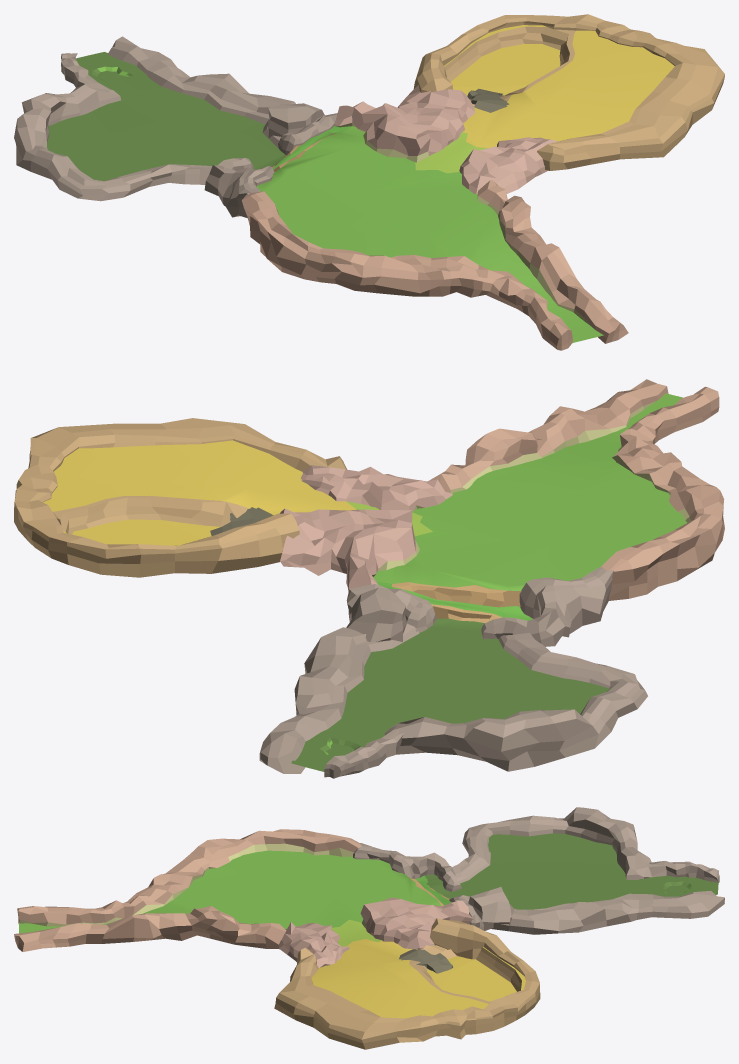
Rendered from MapColor2.fbx.
3 views of the same model, one above another, from view 1: azimuth 30°, elevation 25°; view 2: azimuth 150°, elevation 25°; view 3: azimuth 270°, elevation 25° (orthographic). The views are drawn at different scales.
Visible parts, largest first — view 1: Plane, Cube.006, Cube.007, Cube.008, Cube.001, Cube.005, Cube.009, Cube.002, Cube.003, Cube.010, Cube.004, Cube.011 (+1 smaller); view 2: Plane, Cube.006, Cube.008, Cube.007, Cube.001, Cube.009, Cube.005, Cube.003, Cube.002, Cube.010, Cube.011, Cube.004 (+1 smaller); view 3: Plane, Cube.006, Cube.007, Cube.005, Cube.008, Cube.009, Cube.001, Cube.003, Cube.002, Cube.010, Cube.011, Cube.
Part boxes in pixels (<box>): Plane: <box>47,25,674,343</box>; Cube.006: <box>413,14,724,170</box>; Cube.007: <box>242,191,572,350</box>; Cube.008: <box>14,83,212,201</box>; Cube.001: <box>334,85,474,162</box>; Cube.005: <box>477,180,628,343</box>; Cube.009: <box>108,36,295,147</box>; Cube.002: <box>459,137,557,194</box>; Cube.003: <box>204,158,274,217</box>; Cube.010: <box>267,103,324,137</box>; Cube.004: <box>278,113,337,155</box>; Cube.011: <box>61,53,98,87</box>; Plane: <box>43,393,687,773</box>; Cube.006: <box>14,418,346,577</box>; Cube.008: <box>384,633,647,771</box>; Cube.007: <box>600,386,724,600</box>; Cube.001: <box>280,508,419,593</box>; Cube.009: <box>259,623,419,773</box>; Cube.005: <box>429,379,668,493</box>; Cube.003: <box>481,567,613,646</box>; Cube.002: <box>300,465,452,511</box>; Cube.010: <box>346,587,406,641</box>; Cube.011: <box>324,728,403,778</box>; Cube.004: <box>346,584,436,632</box>; Plane: <box>19,833,718,1018</box>; Cube.006: <box>274,918,540,1049</box>; Cube.007: <box>17,829,361,926</box>; Cube.005: <box>14,906,286,951</box>; Cube.008: <box>452,807,652,883</box>; Cube.009: <box>491,890,724,934</box>; Cube.001: <box>360,897,473,949</box>; Cube.003: <box>353,843,461,891</box>; Cube.002: <box>278,922,349,967</box>; Cube.010: <box>468,887,514,930</box>; Cube.011: <box>646,861,719,882</box>; Cube: <box>399,949,452,973</box>.
Size of the model in its own units: 1423 by 156 by 1755.
